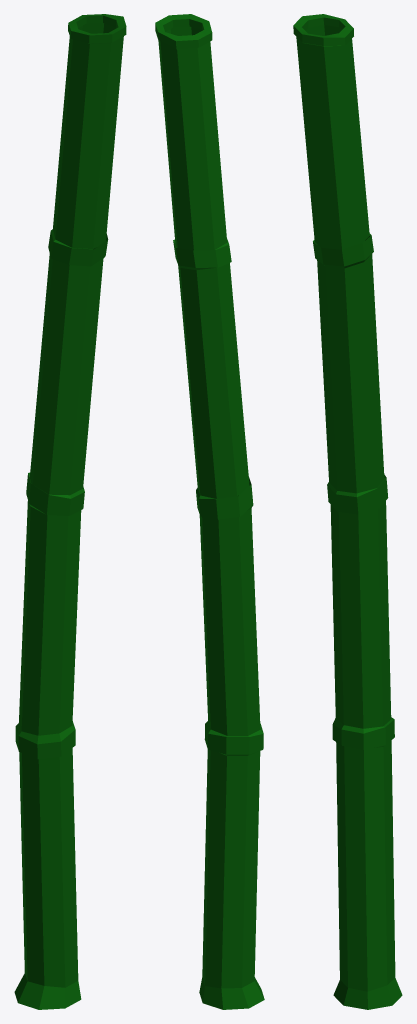
The model's file is Bamboo.glb.
3 renders of one model, left to right at view 1: azimuth 30°, elevation 25°; view 2: azimuth 210°, elevation 25°; view 3: azimuth 270°, elevation 25°, orthographic. The views are drawn at different scales.
Visible parts, largest first — view 1: Bamboo.003; view 2: Bamboo.003; view 3: Bamboo.003.
Boxes of the visible parts, bbox=[...] form: Bamboo.003: bbox=[14, 14, 126, 1009]; Bamboo.003: bbox=[155, 14, 264, 1009]; Bamboo.003: bbox=[293, 14, 402, 1009].
Bounding box in the file's own units: 0.4628 × 5.12 × 0.5153.
